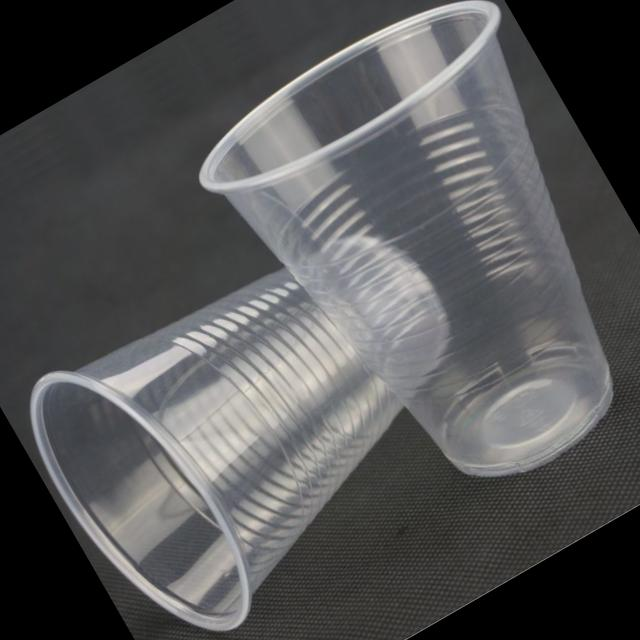GelasPlastik: (151, 0, 640, 557), (5, 177, 547, 640)
